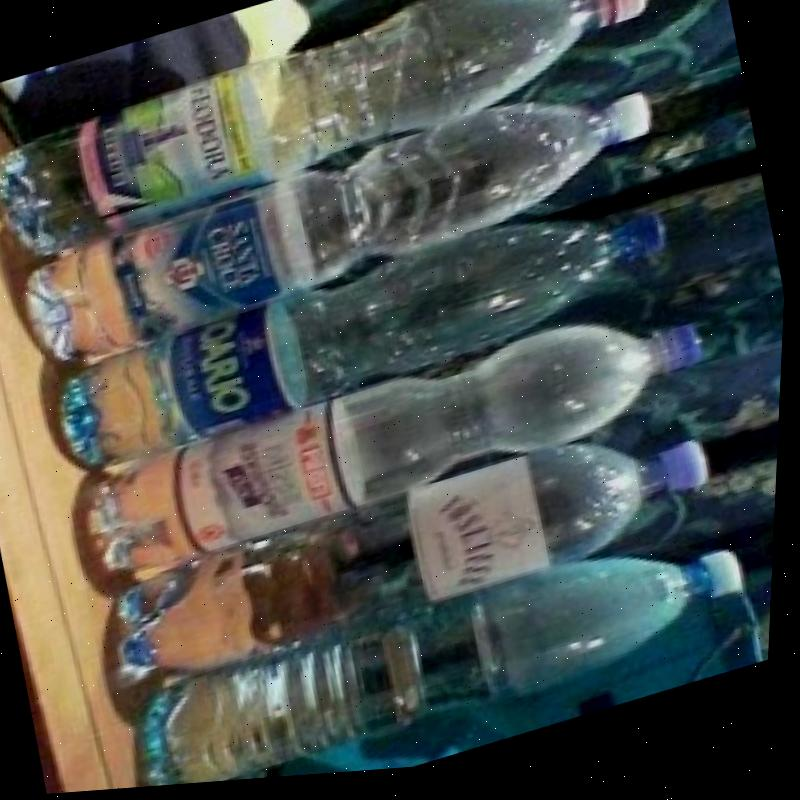botella: (7, 67, 674, 376), (40, 182, 683, 486), (67, 297, 721, 594), (98, 409, 729, 704), (0, 0, 667, 263), (130, 525, 761, 791)
